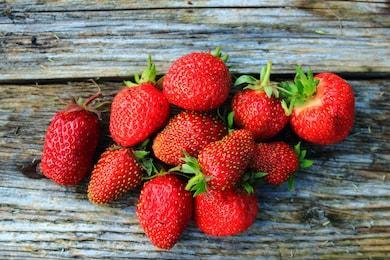Fresa: (37, 101, 104, 190), (288, 68, 358, 150), (149, 106, 235, 168), (135, 168, 196, 254), (106, 76, 174, 149), (160, 47, 234, 113), (191, 126, 257, 195), (229, 75, 293, 144), (85, 145, 144, 205), (248, 135, 308, 190)
